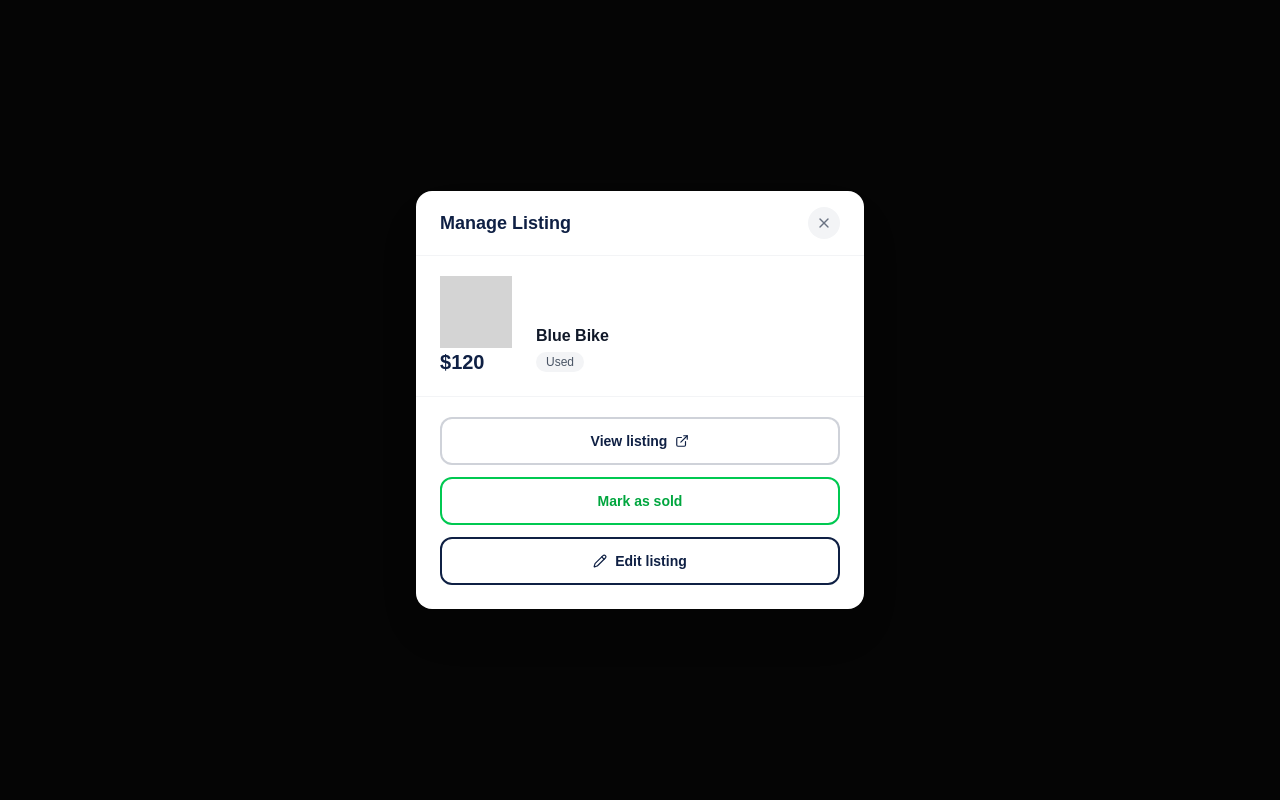
Test: ListingManageModal › cancel button returns to the normal actions view
This screenshot has width=1280, height=800.
Click the button "Mark as sold": (640, 501) [440,477,840,525]
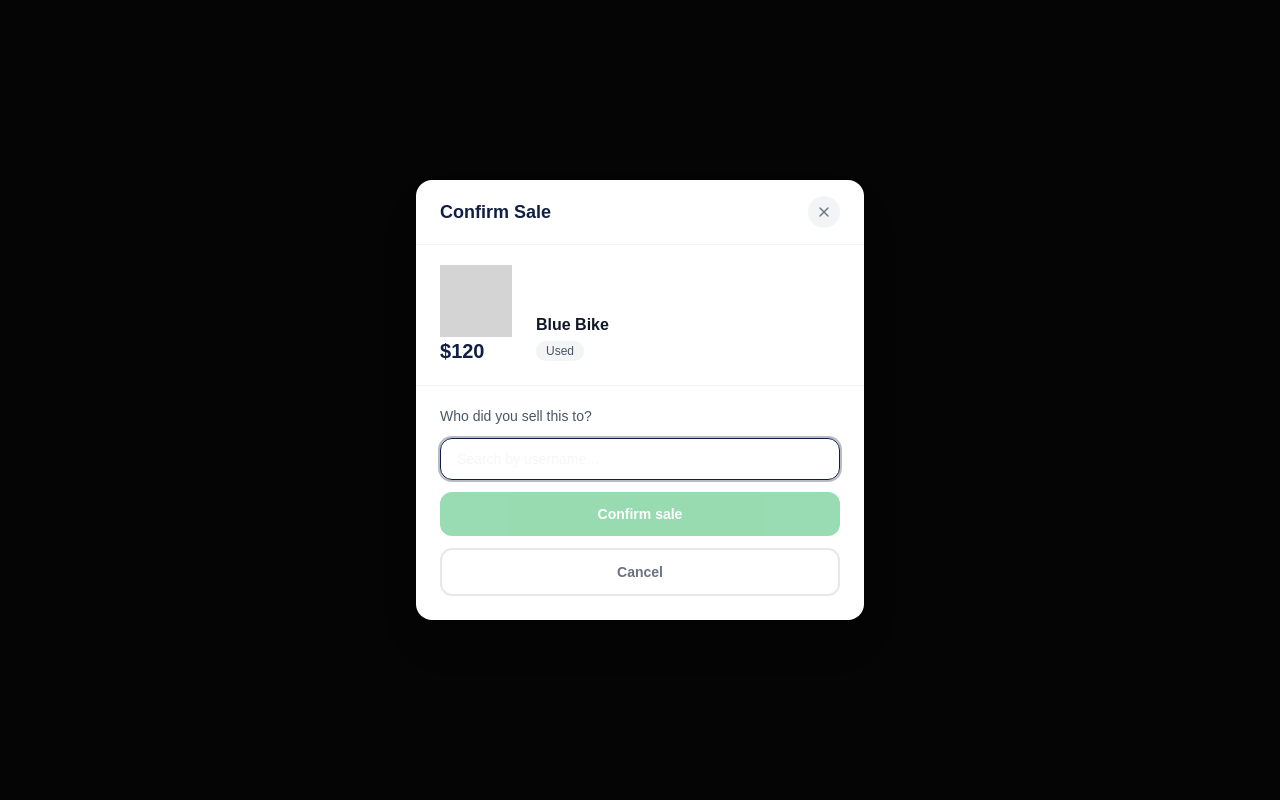
Click the button "Cancel": (640, 572) [440,548,840,596]
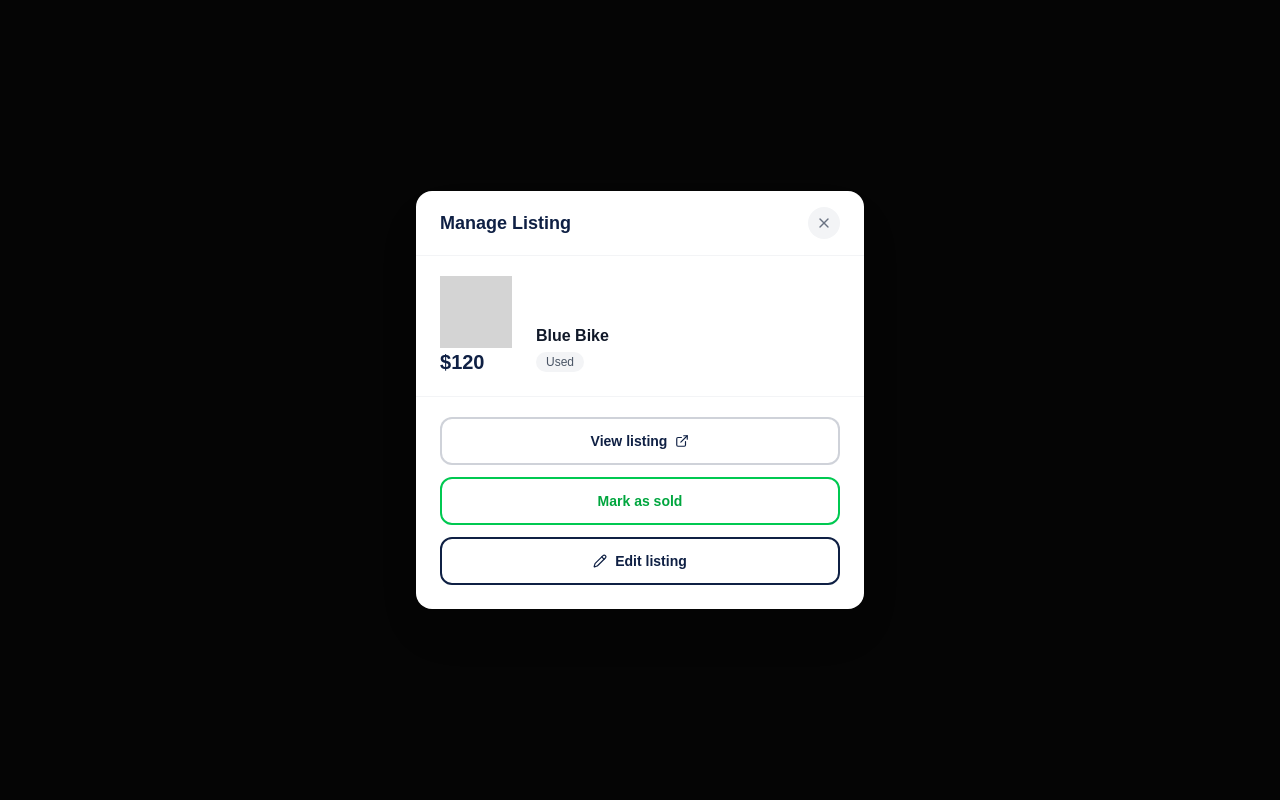
Check: the heading "Manage Listing" is shown, box [440,209,571,237]
Check: the button "Mark as sold" is shown, box [440,477,840,525]
